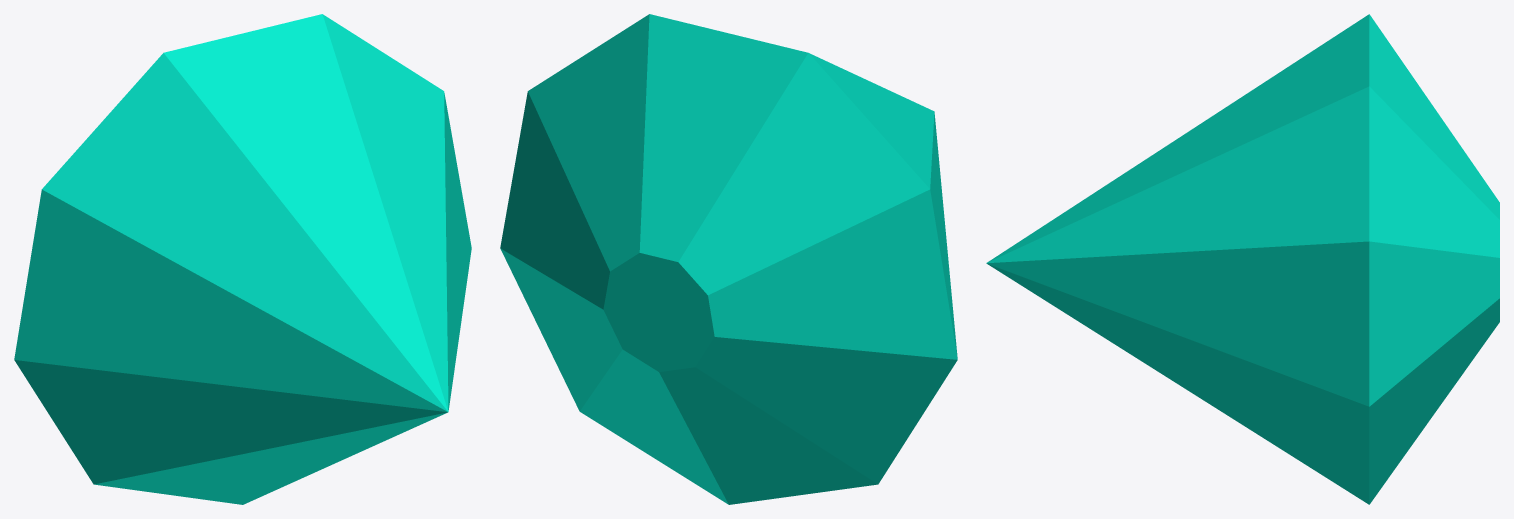
Rendered from krysztal.fbx.
The picture shows the model from 3 angles, left to right: view 1: azimuth 30°, elevation 25°; view 2: azimuth 150°, elevation 25°; view 3: azimuth 270°, elevation 25°; orthographic projection. The views are drawn at different scales.
Parts seen in each view (by area): view 1: Crystal; view 2: Crystal; view 3: Crystal.
Part boxes in pixels (box(x1,y1,x2,y2)): Crystal: box(14, 14, 471, 504); Crystal: box(500, 14, 957, 504); Crystal: box(986, 14, 1499, 504).
Size of the model in its own units: 257 by 253 by 268.
